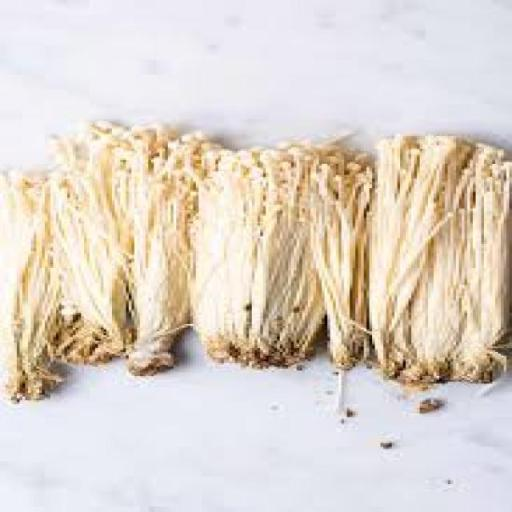Enoki Mushroom: (191, 135, 372, 375), (370, 133, 512, 403), (122, 122, 205, 377), (1, 163, 80, 414), (57, 122, 139, 359)
